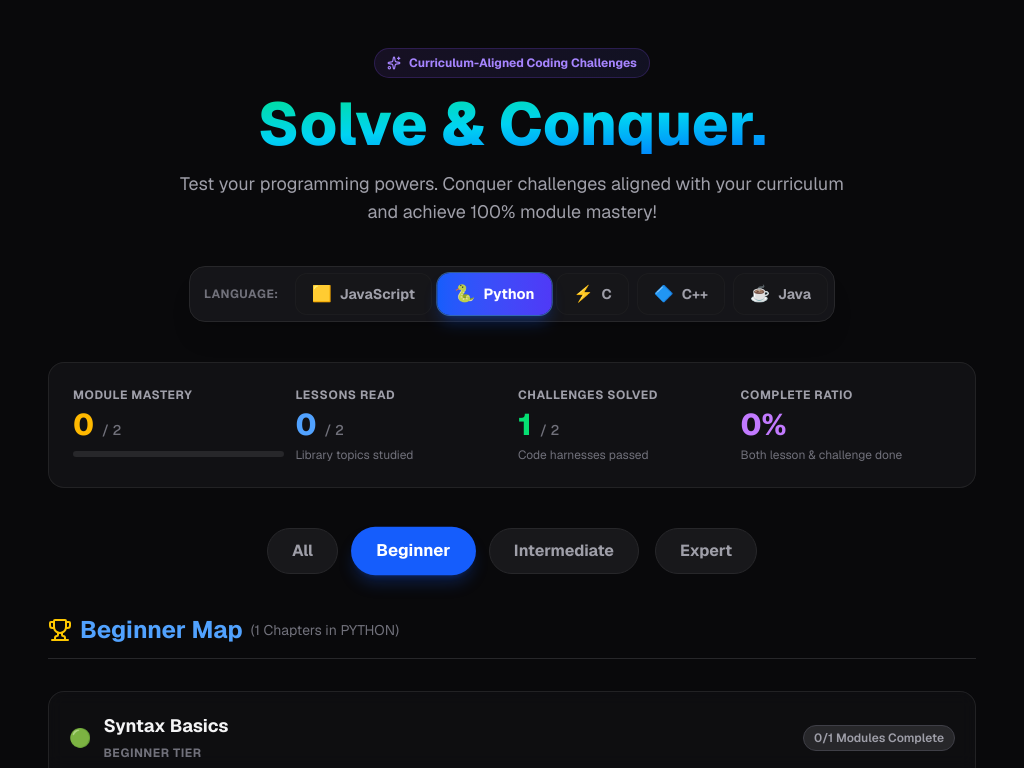
Test: ProblemsDashboardClient › renders with initial completed problems and handles difficulty toggle
Expected: the heading "Solve & Conquer." is shown, [48,94,976,154]
Click the button "Intermediate" at (564, 551), box [489,528,639,574]
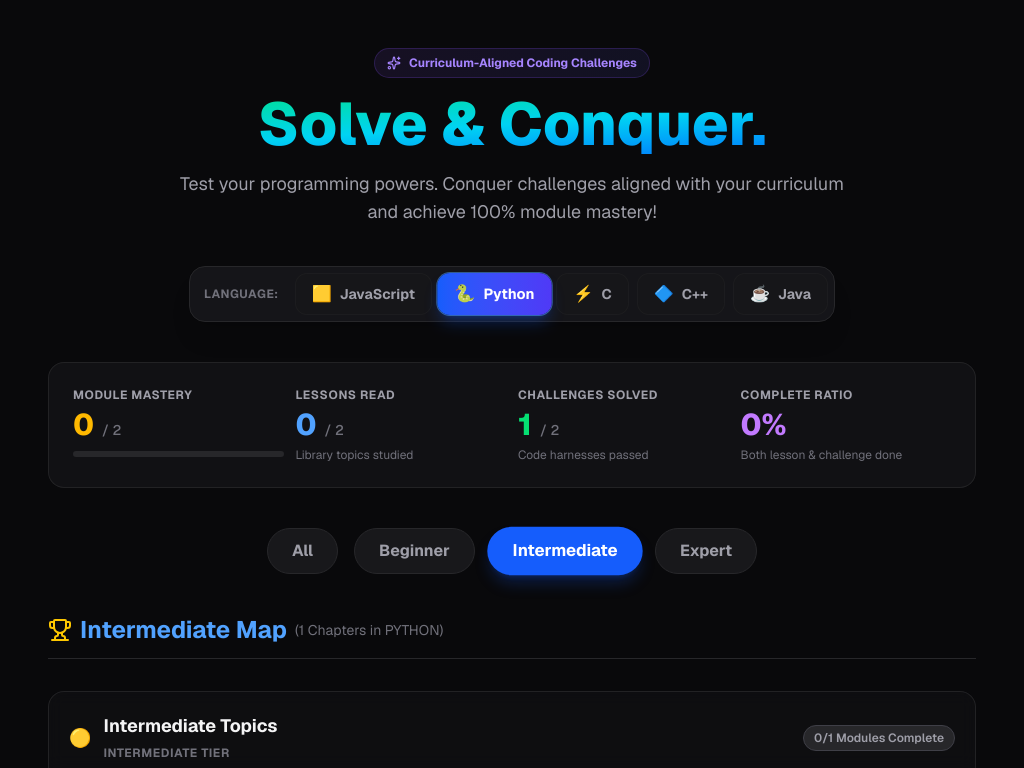
Expected: the text "Intermediate Map" is shown, [80,614,287,646]
